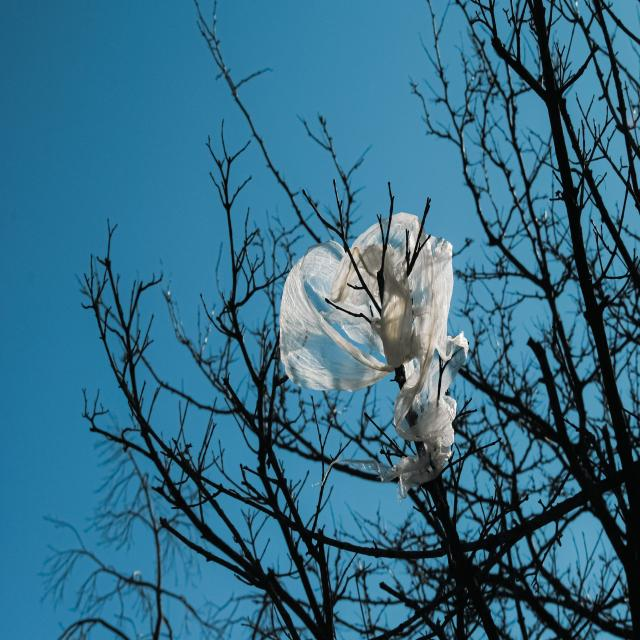Plastic: (277, 212, 469, 494)
